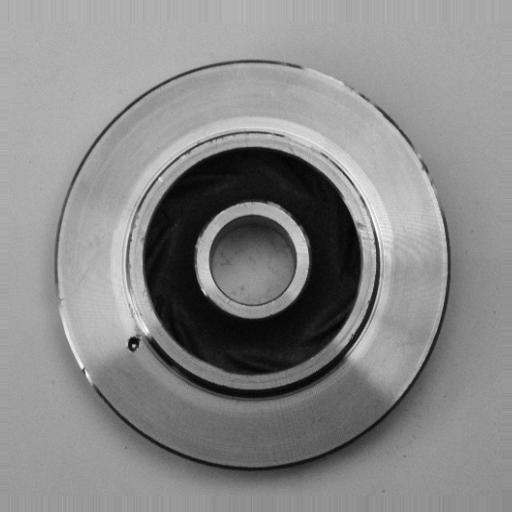pit: (120, 329, 151, 358)
scratch: (50, 287, 98, 390), (118, 249, 156, 334)
unpolished_casting: (53, 55, 454, 477)
